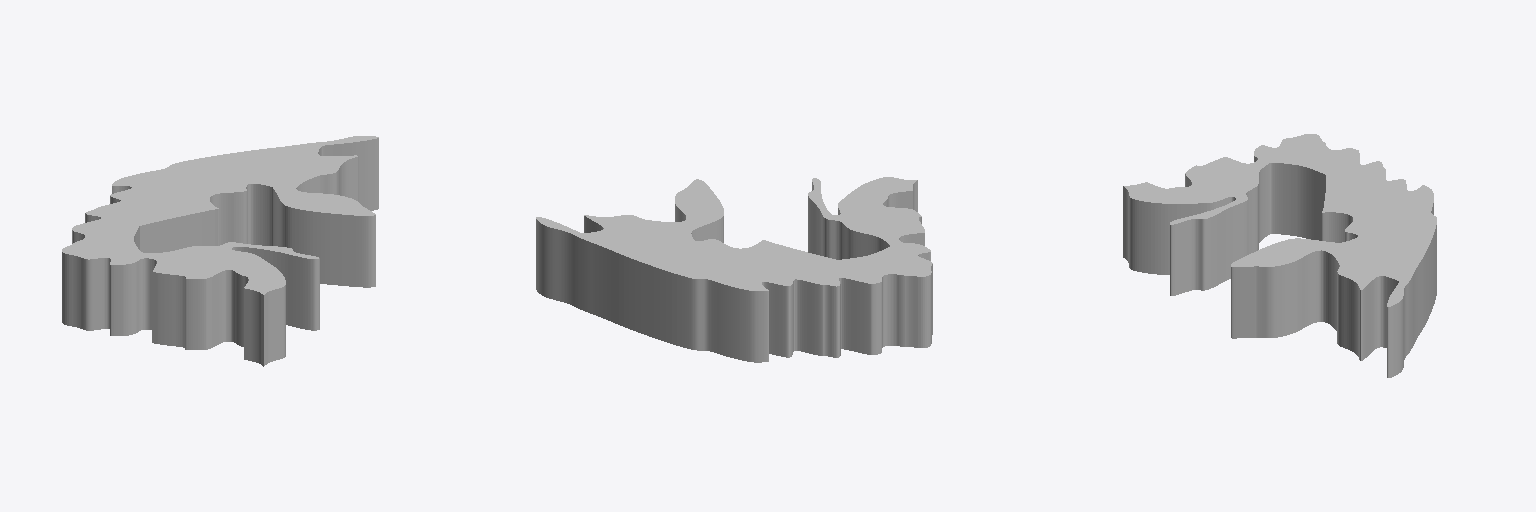
The model's file is Asia_06.obj.
3 renders of one model, left to right at view 1: azimuth 30°, elevation 25°; view 2: azimuth 150°, elevation 25°; view 3: azimuth 270°, elevation 25°, orthographic.
Parts seen in each view (by area): view 1: Asia_06_path4260; view 2: Asia_06_path4260; view 3: Asia_06_path4260.
Boxes of the visible parts, x1=… form: Asia_06_path4260: x1=62, y1=136, x2=378, y2=366; Asia_06_path4260: x1=536, y1=177, x2=932, y2=362; Asia_06_path4260: x1=1123, y1=134, x2=1436, y2=377.
Size of the model in its own units: 0.5208 by 0.1 by 0.3991.